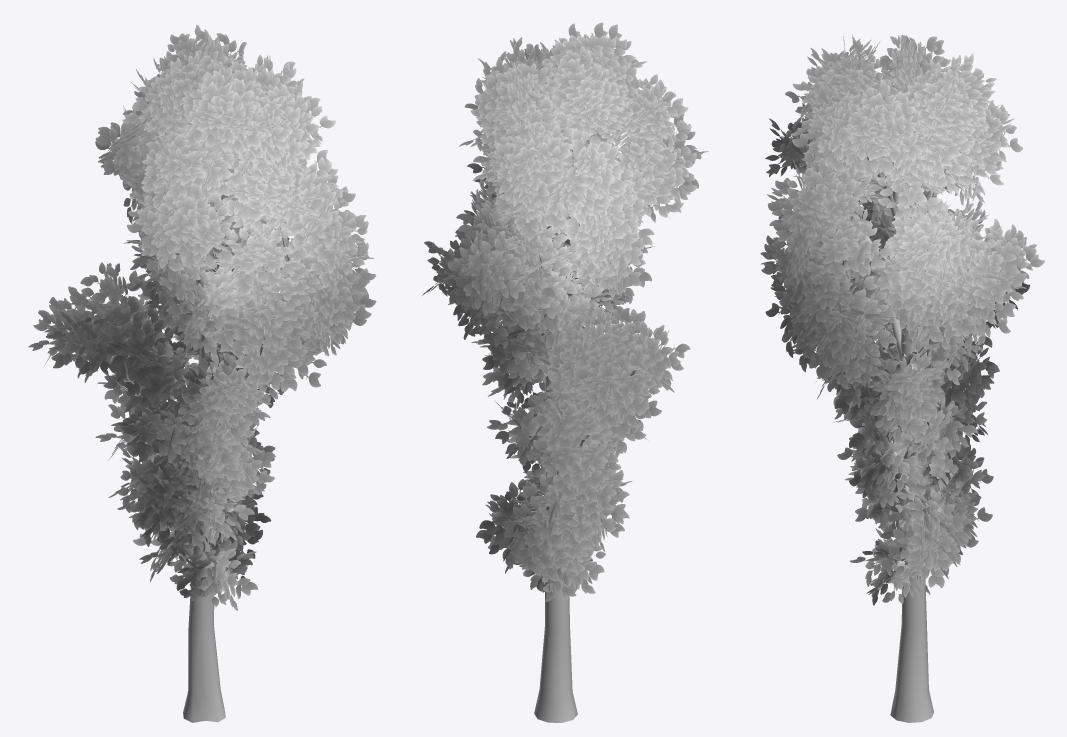
Rendered from SM_Birch_05_Unity.fbx.
3 renders of one model, left to right at view 1: azimuth 30°, elevation 25°; view 2: azimuth 150°, elevation 25°; view 3: azimuth 270°, elevation 25°, orthographic.
Visible parts, largest first — view 1: Birch_06_LOD0; view 2: Birch_06_LOD0; view 3: Birch_06_LOD0.
Boxes of the visible parts, <box> form: Birch_06_LOD0: <box>28,24,376,722</box>; Birch_06_LOD0: <box>422,22,708,722</box>; Birch_06_LOD0: <box>760,34,1044,722</box>.
Size of what is drawn, in the model's own units: 52.19 by 117 by 46.88.
